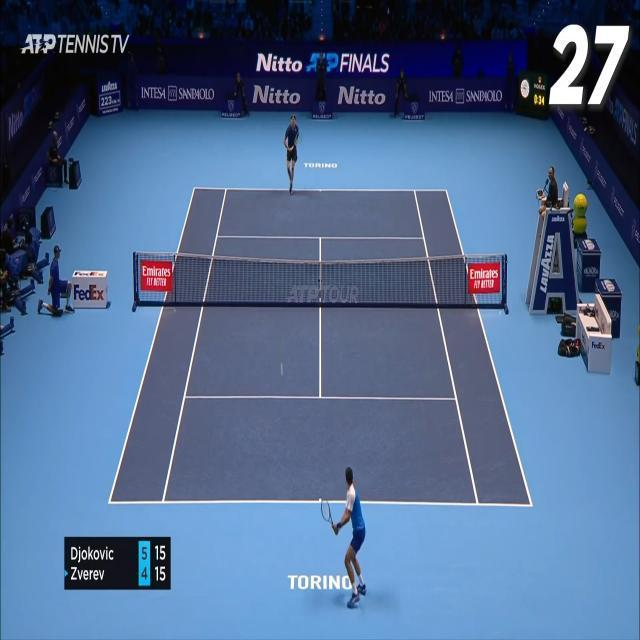court: (107, 187, 533, 508)
net: (134, 253, 508, 306)
player: (321, 466, 367, 608)
